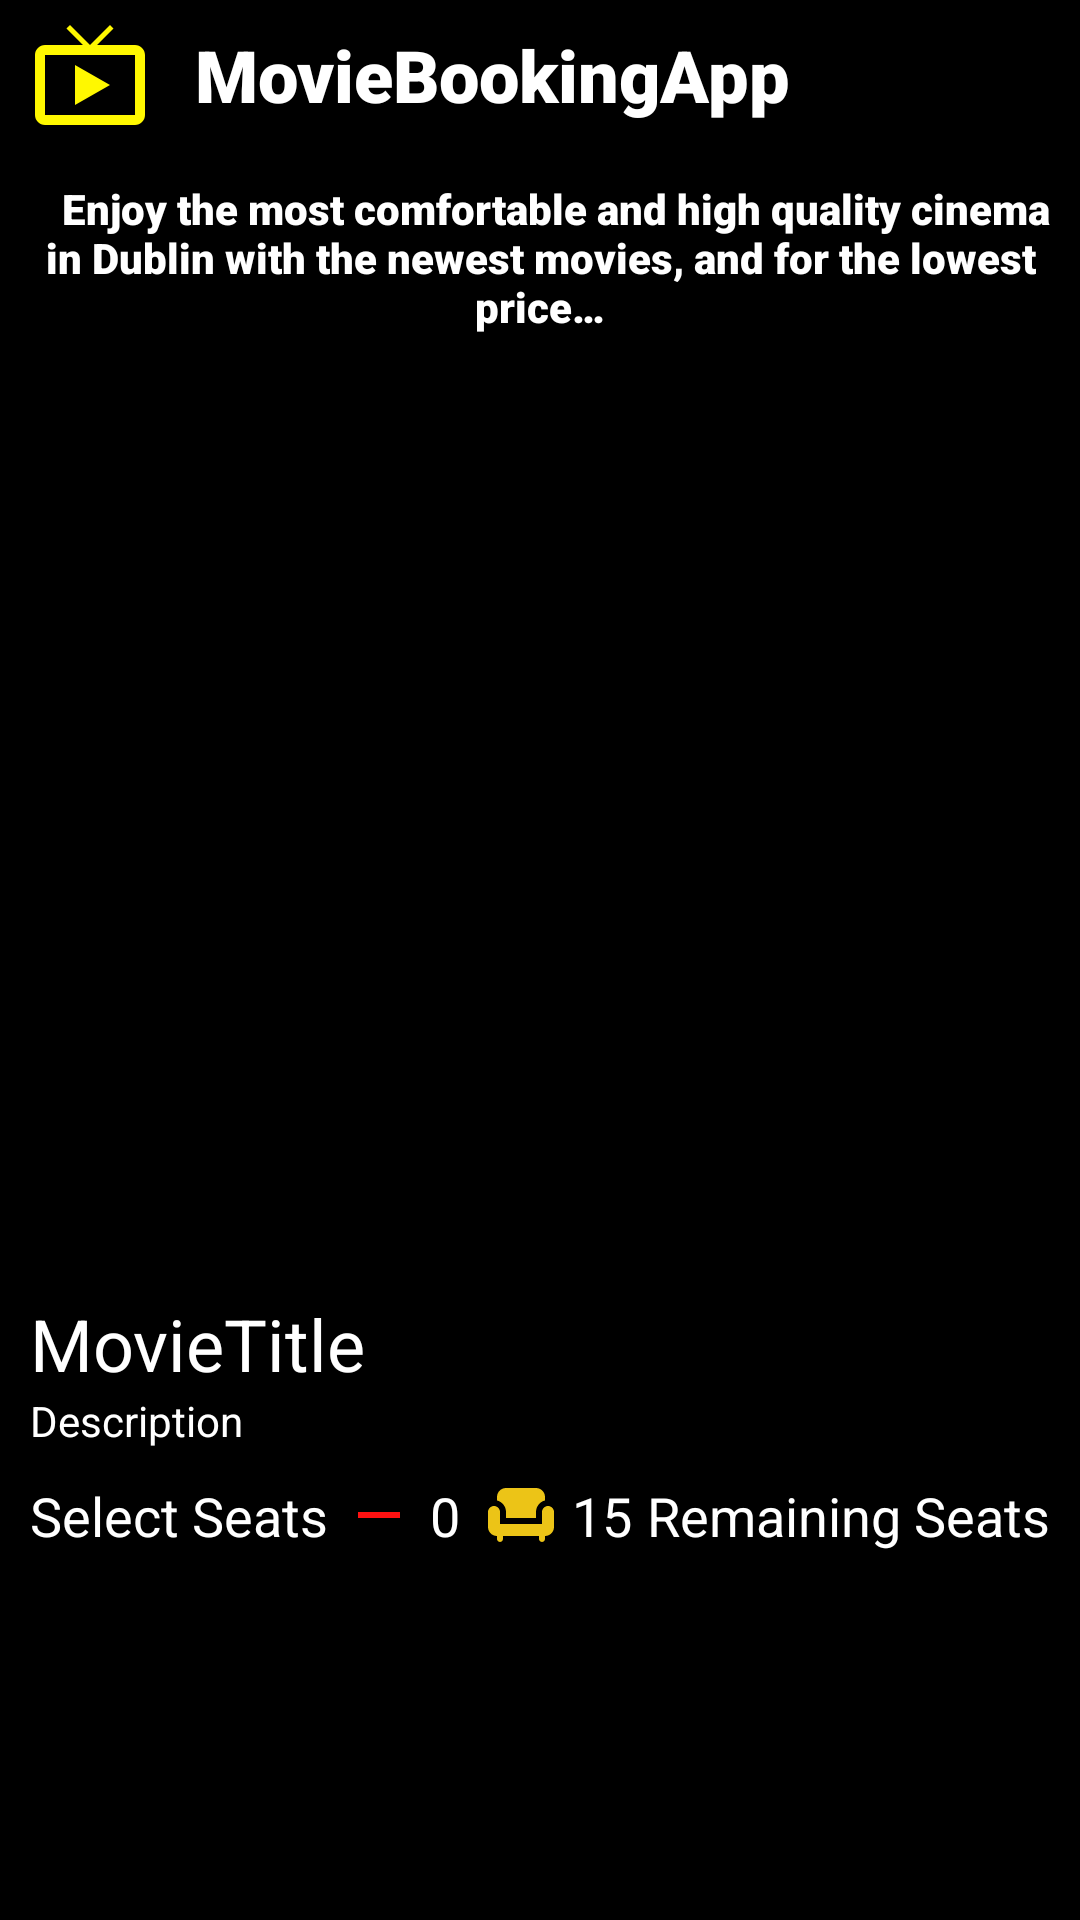

Where to tap for icons on this 1080w x 1920h app screen, as (x=x, y=y):
chair: (x=521, y=1515)
